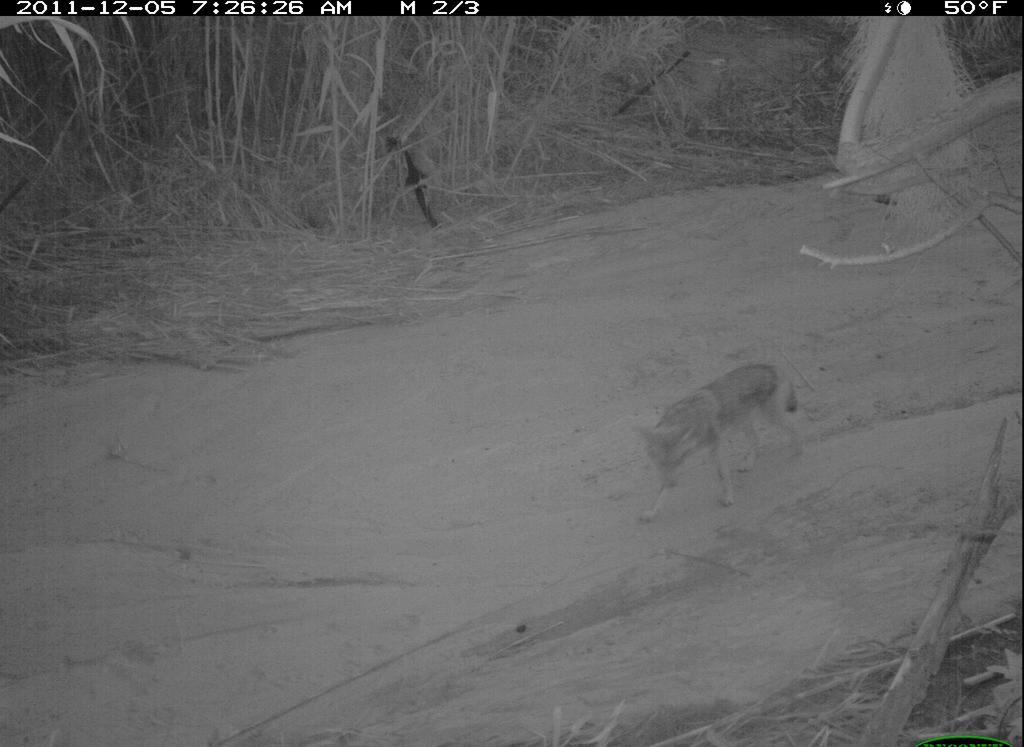coyote: (638, 359, 806, 533)
